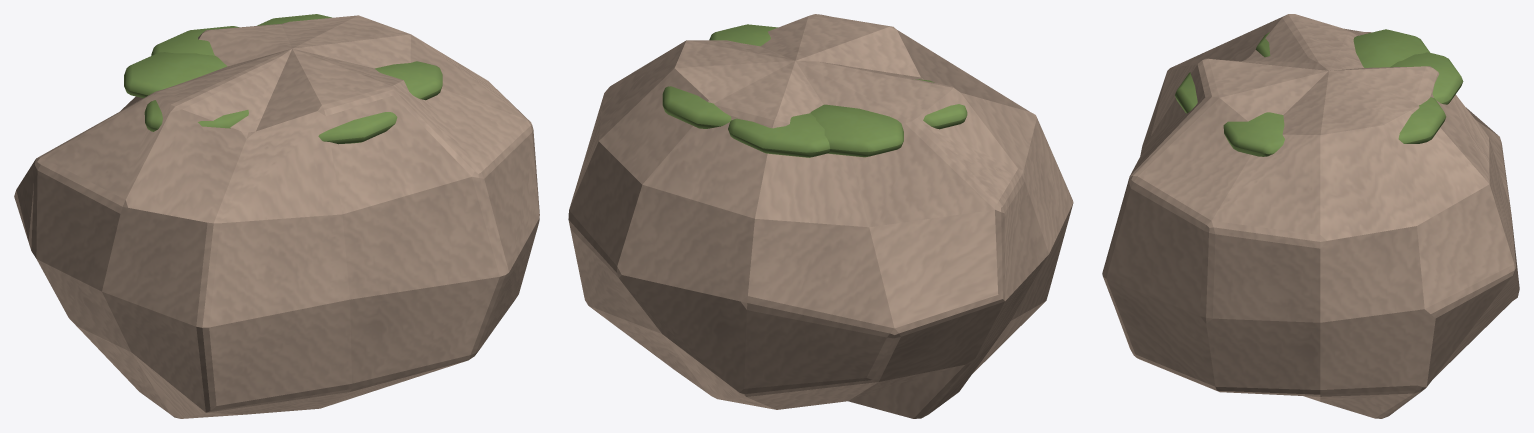
Rendered from rock_deco_3.glb.
3 renders of one model, left to right at view 1: azimuth 30°, elevation 25°; view 2: azimuth 150°, elevation 25°; view 3: azimuth 270°, elevation 25°, orthographic. The views are drawn at different scales.
Visible parts, largest first — view 1: rock_deco_3; view 2: rock_deco_3; view 3: rock_deco_3.
Boxes of the visible parts, x1,y1,x2,y2 form: rock_deco_3: (14, 14, 539, 418); rock_deco_3: (568, 14, 1073, 418); rock_deco_3: (1102, 14, 1519, 418).
Size of the model in its own units: 2.1 by 1.54 by 1.81.
2 materials, 2 textured.
